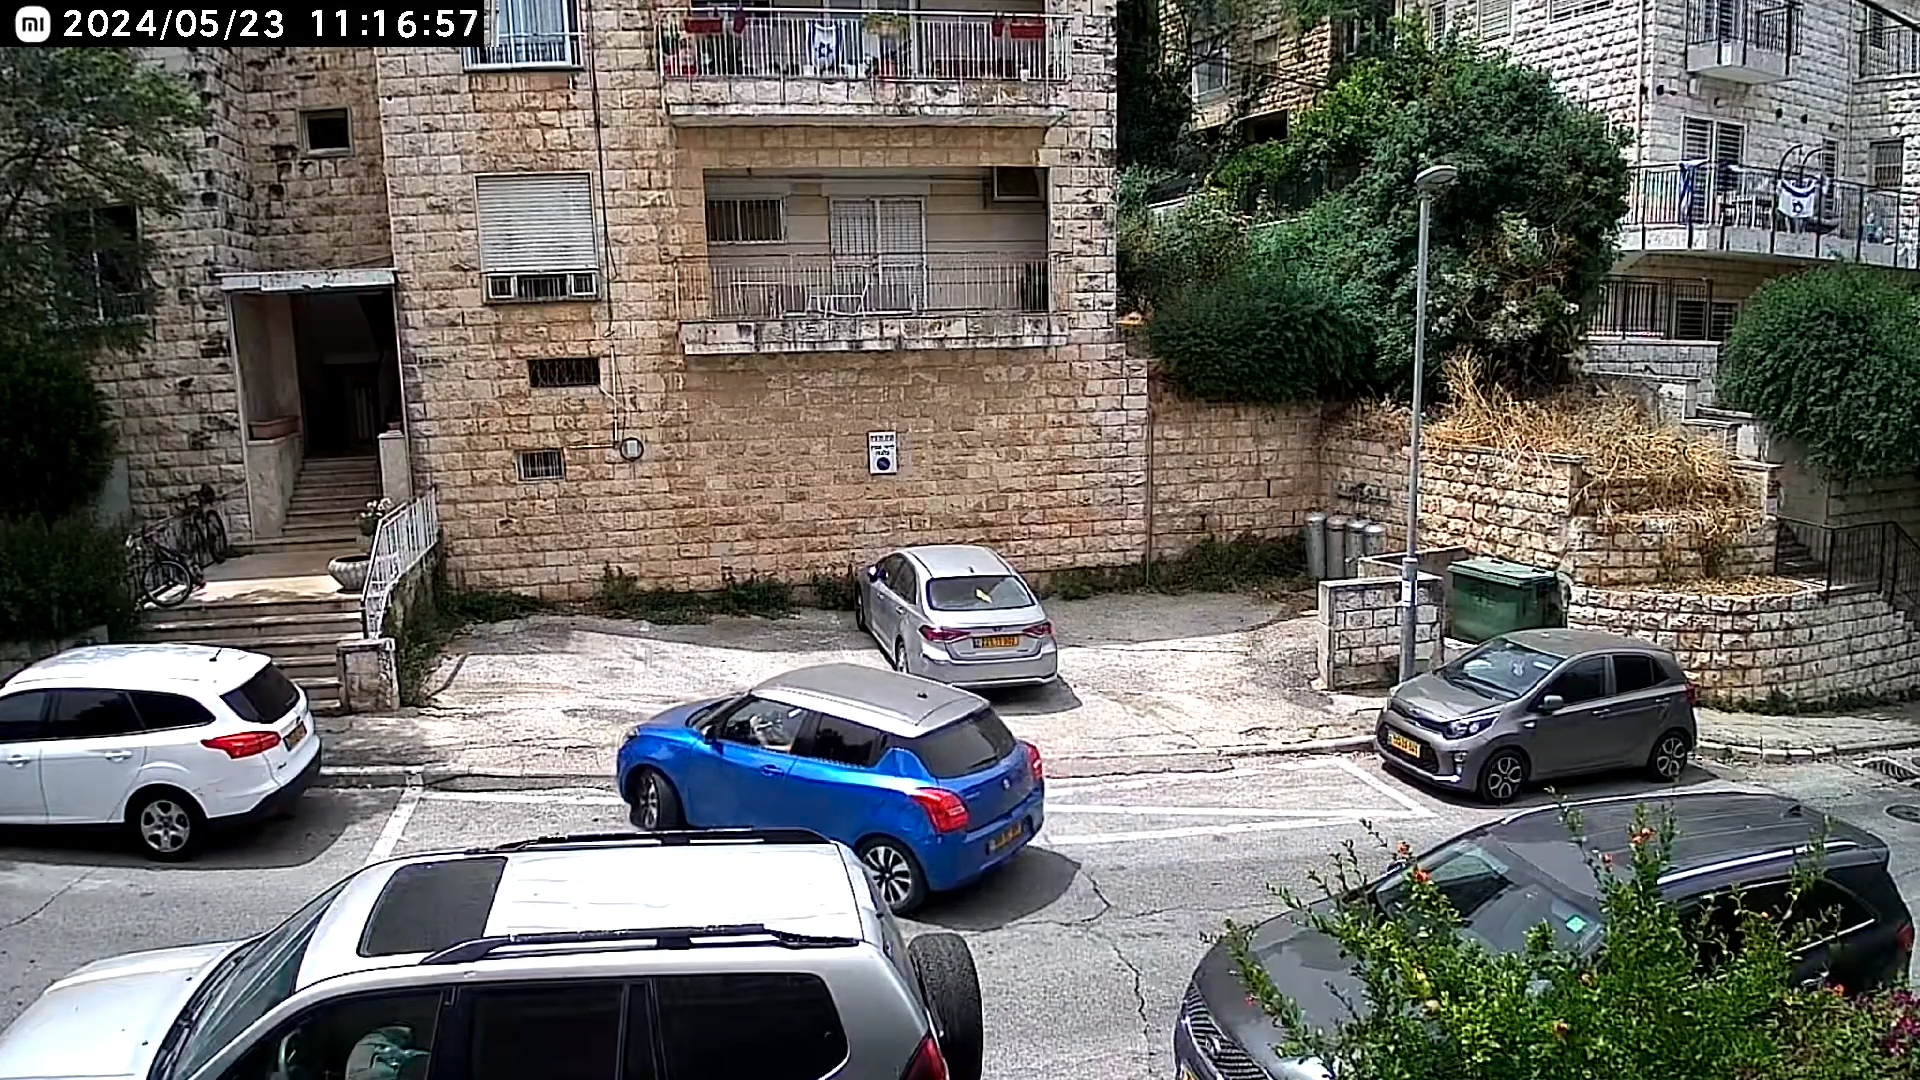moving car: (620, 662, 1040, 901)
